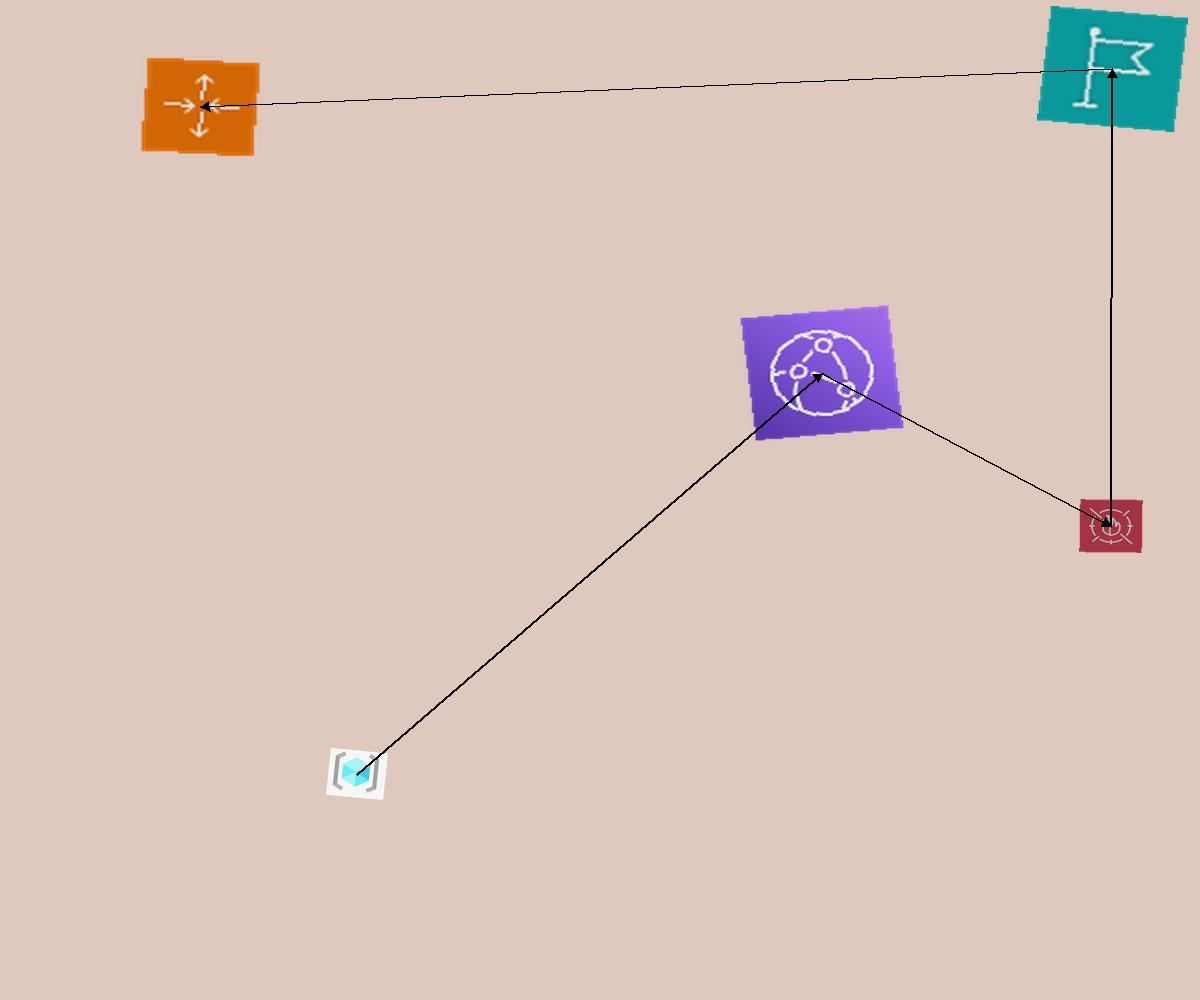AWS-CloudFront: (739, 304, 905, 442)
AWS-Region: (1037, 6, 1188, 132)
AWS-Scaling-group: (139, 56, 262, 158)
AWS-WAF: (1079, 499, 1143, 553)
Azure_resource_group: (326, 748, 388, 800)
